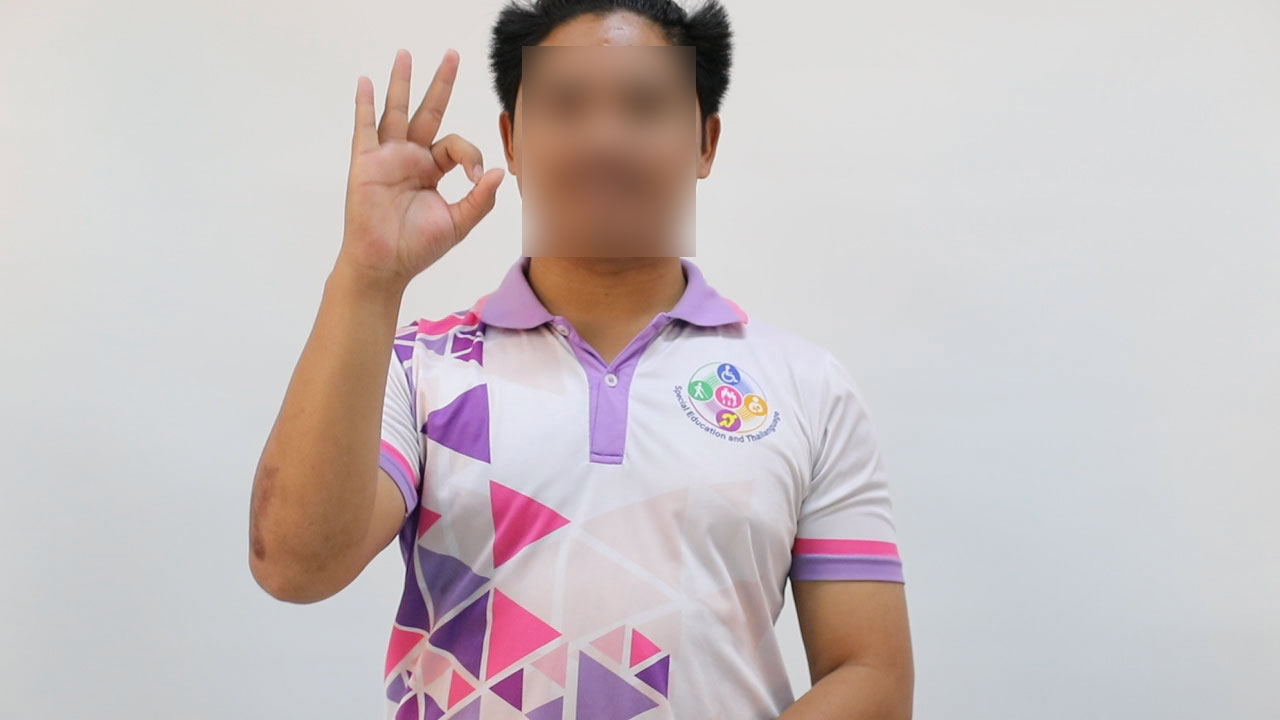for: (307, 38, 513, 306)
